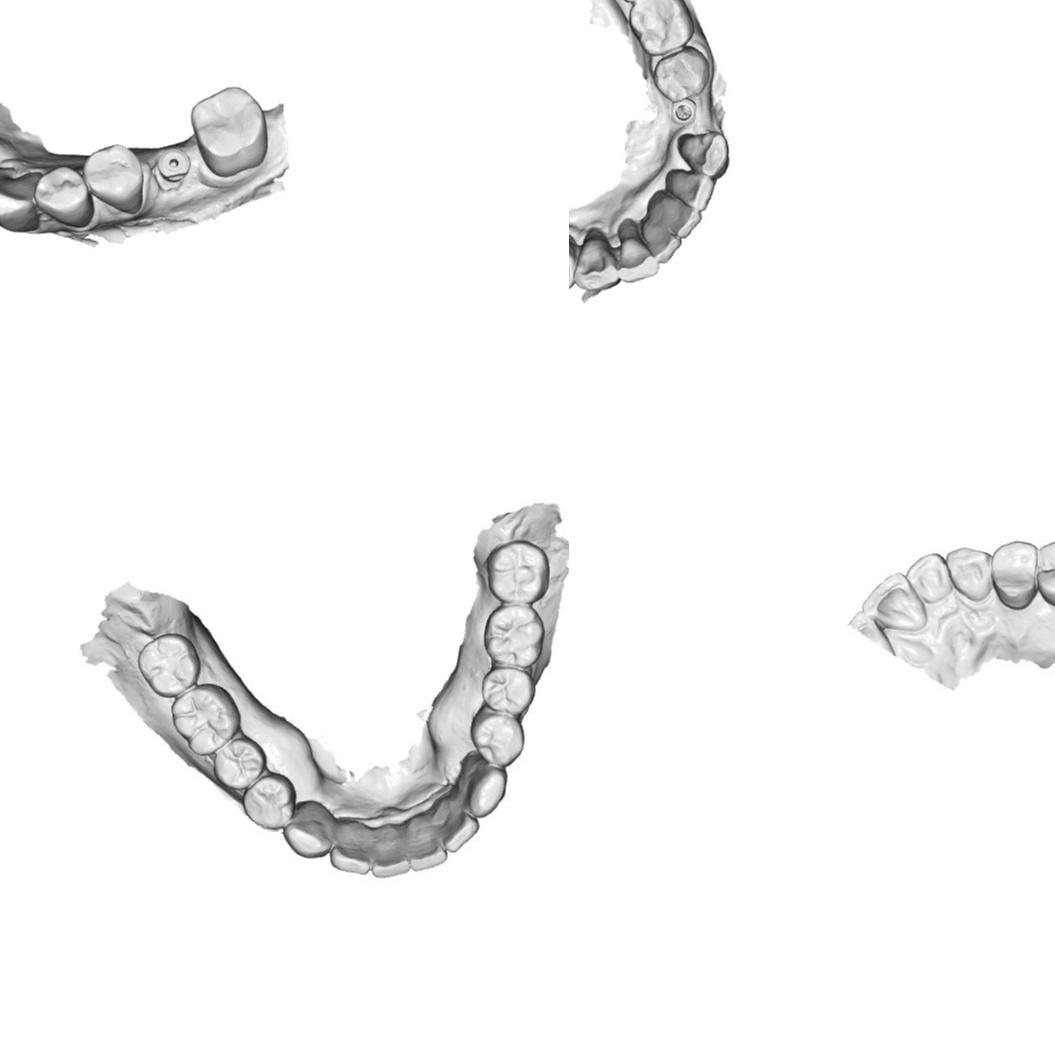canine: (572, 227, 621, 293), (282, 800, 336, 859), (461, 752, 507, 818), (0, 167, 40, 236), (676, 131, 730, 180), (946, 547, 991, 600)
implant: (156, 145, 191, 183), (670, 97, 696, 126)
incisor: (867, 575, 922, 629), (616, 218, 660, 282), (648, 189, 702, 238), (435, 797, 480, 853), (330, 818, 370, 876), (370, 823, 411, 879), (664, 168, 715, 212), (407, 818, 448, 871), (639, 215, 682, 264), (909, 555, 955, 600)
molar: (188, 82, 271, 179), (170, 683, 241, 756), (136, 632, 201, 698), (486, 540, 550, 602), (483, 604, 545, 668), (628, 0, 693, 56)
premolar: (81, 142, 146, 215), (31, 163, 94, 230), (651, 46, 710, 102), (470, 708, 524, 767), (242, 771, 296, 830), (213, 736, 266, 790), (994, 543, 1037, 606), (481, 666, 536, 714), (1037, 543, 1055, 608)
